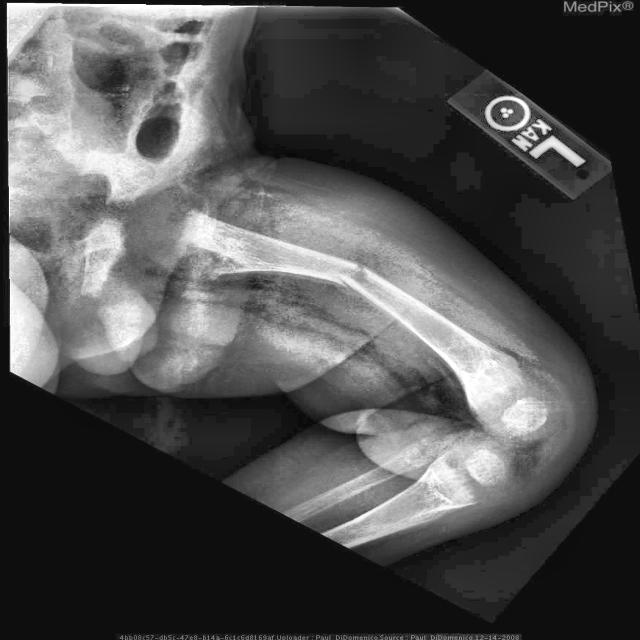fracture: (336, 262, 368, 292)
